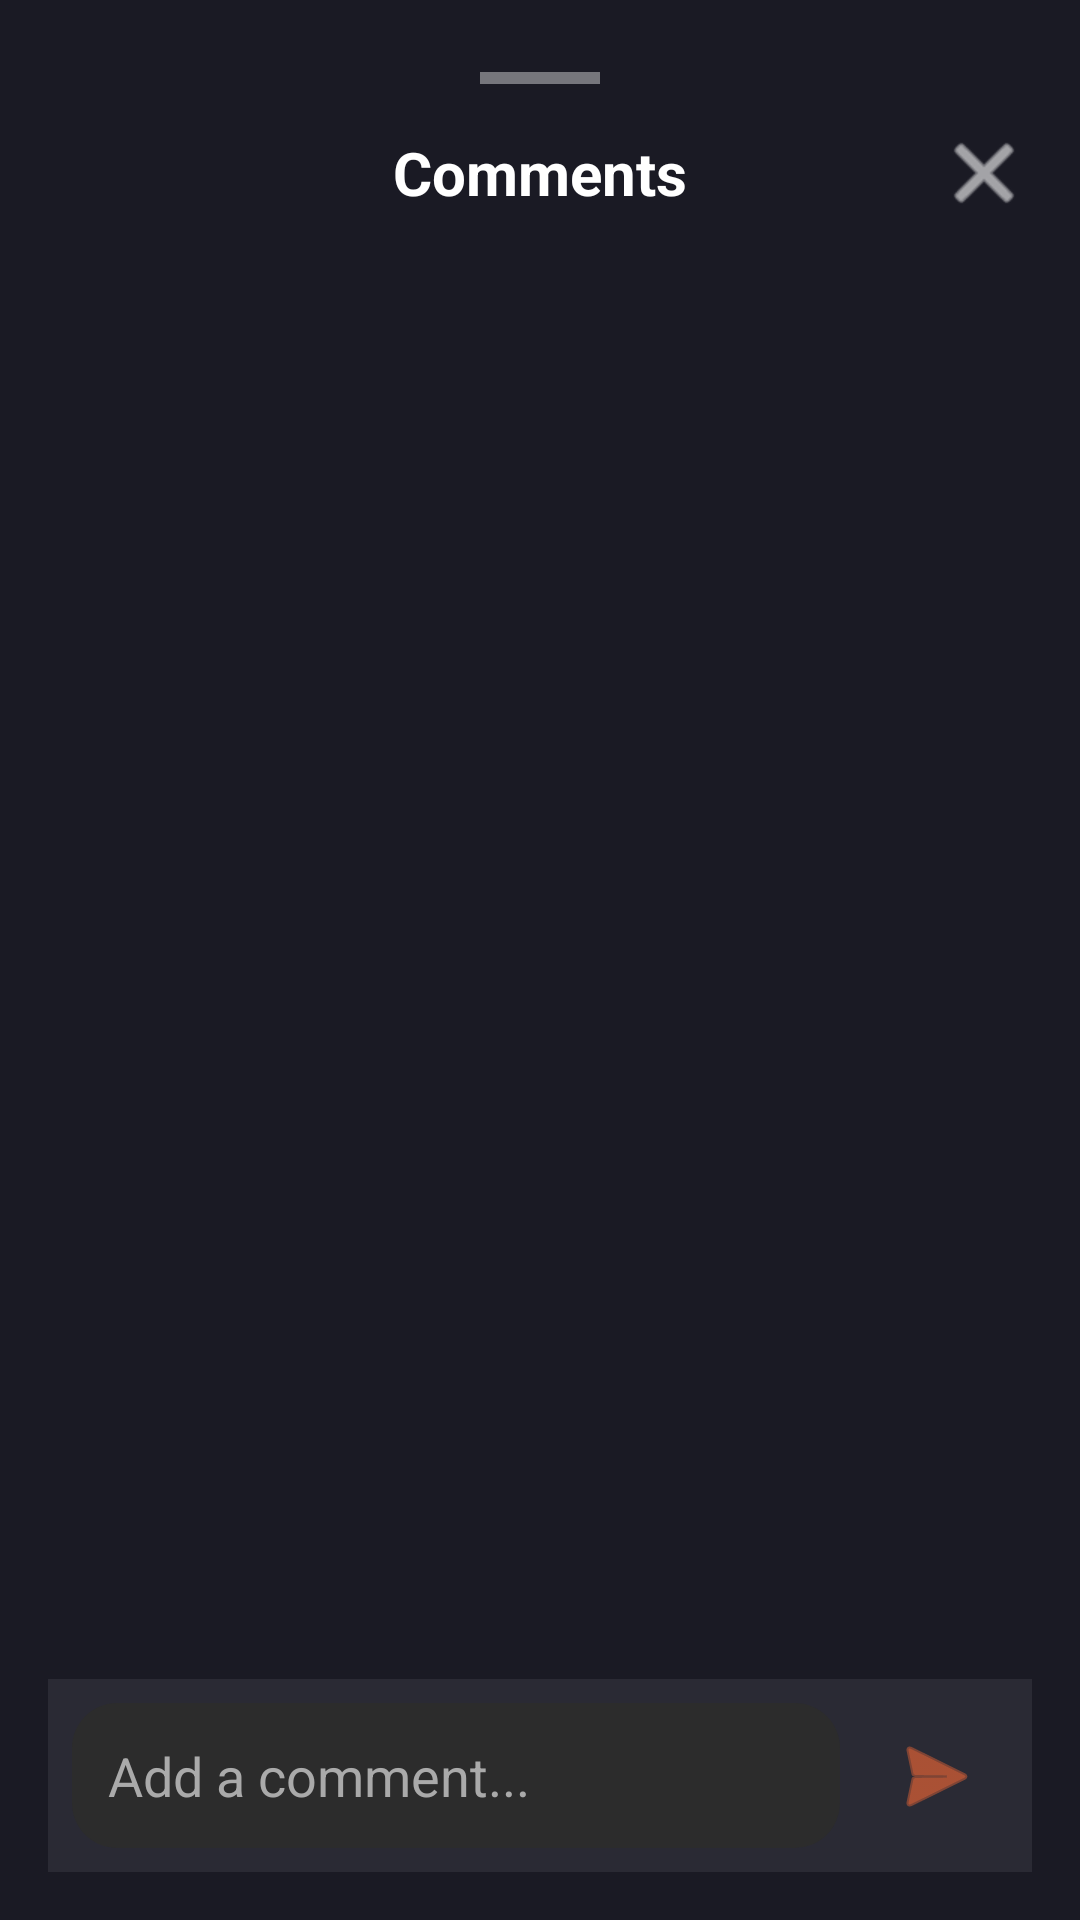

Icons on this 1080w x 1920h Android screen, each with the point to tap as point (x, y):
close clear cancel: point (984, 173)
send: point (937, 1776)
